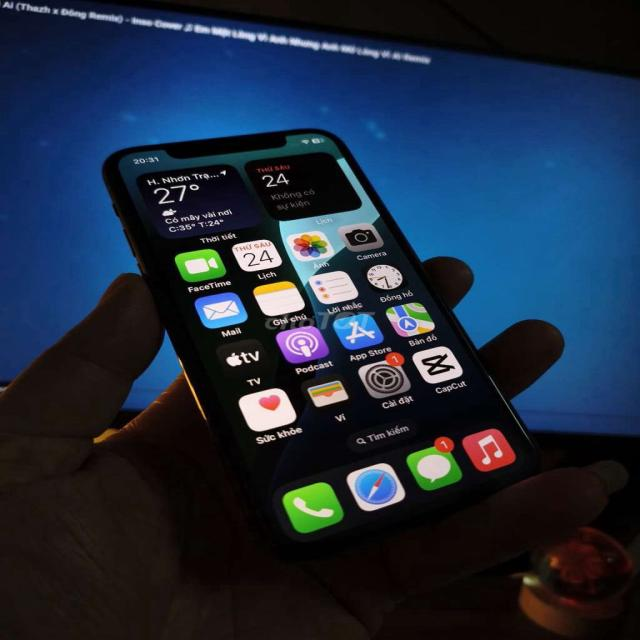gen_11: (87, 113, 546, 563)
